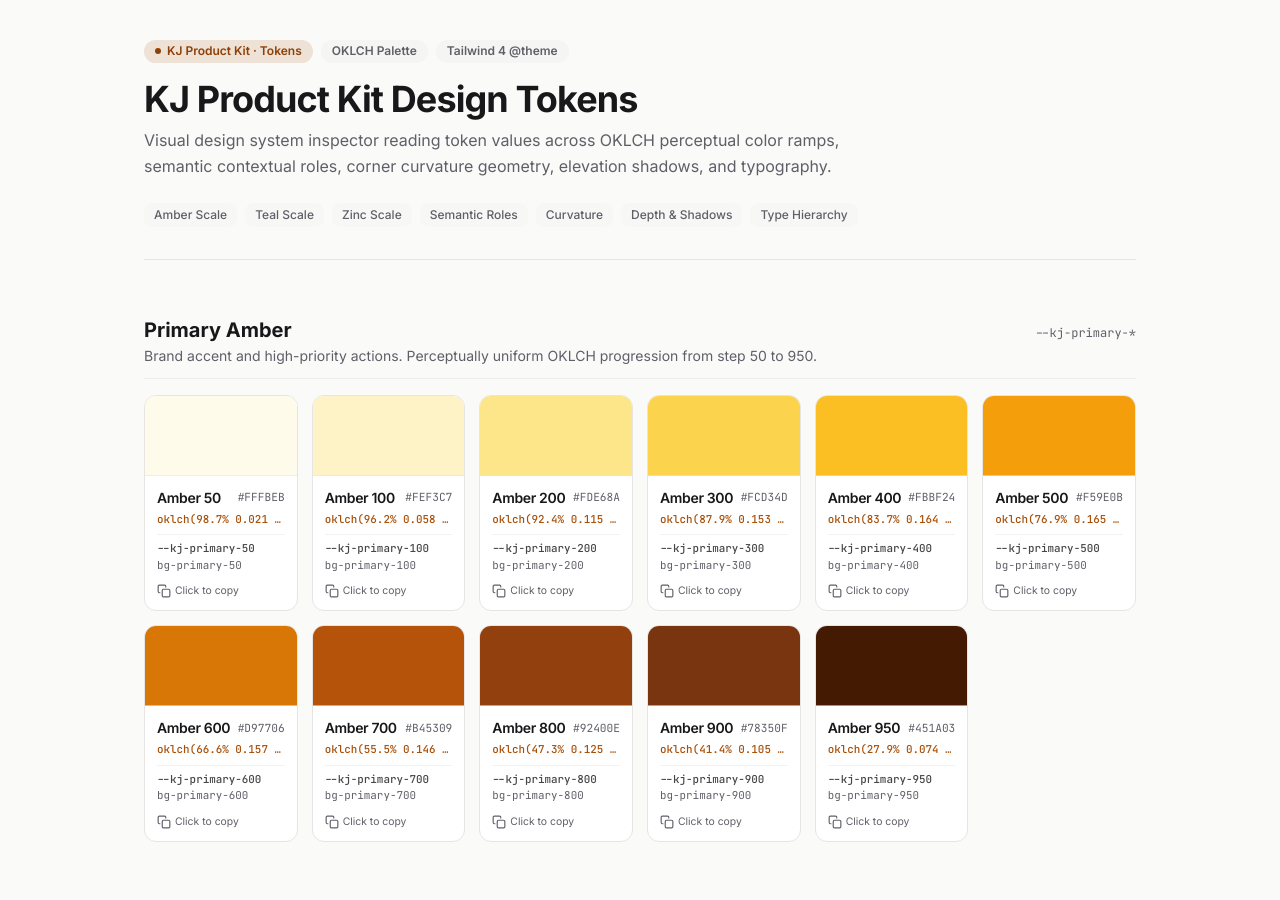
Test case: TokensView › copies token value on swatch click and provides feedback
The width and height of the screenshot is (1280, 900).
Click the button with test id "swatch-primary-500". click: (1059, 503)
box: [982,394,1136,611]
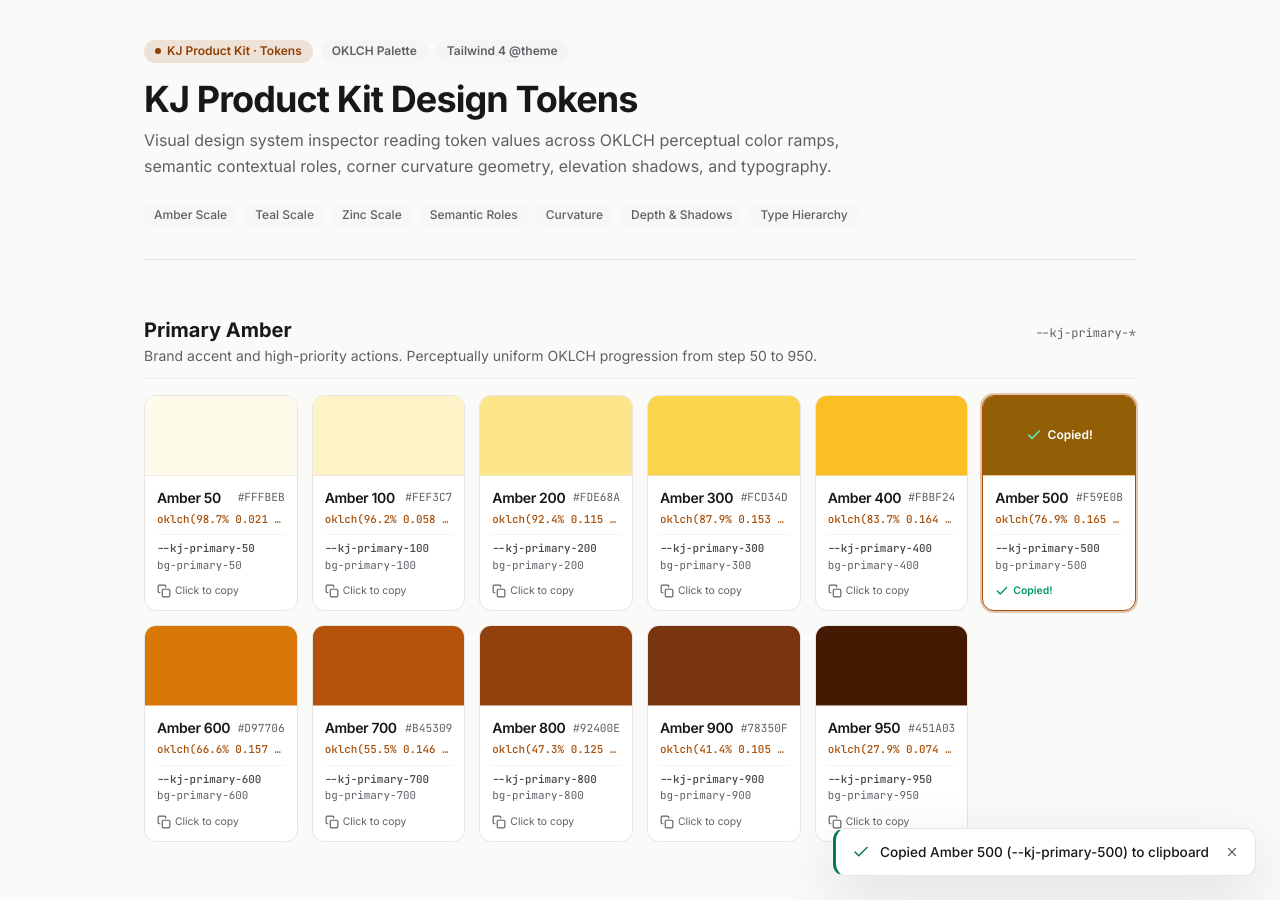
Check: the text "Copied!" is shown, box [1048,427,1093,443]
